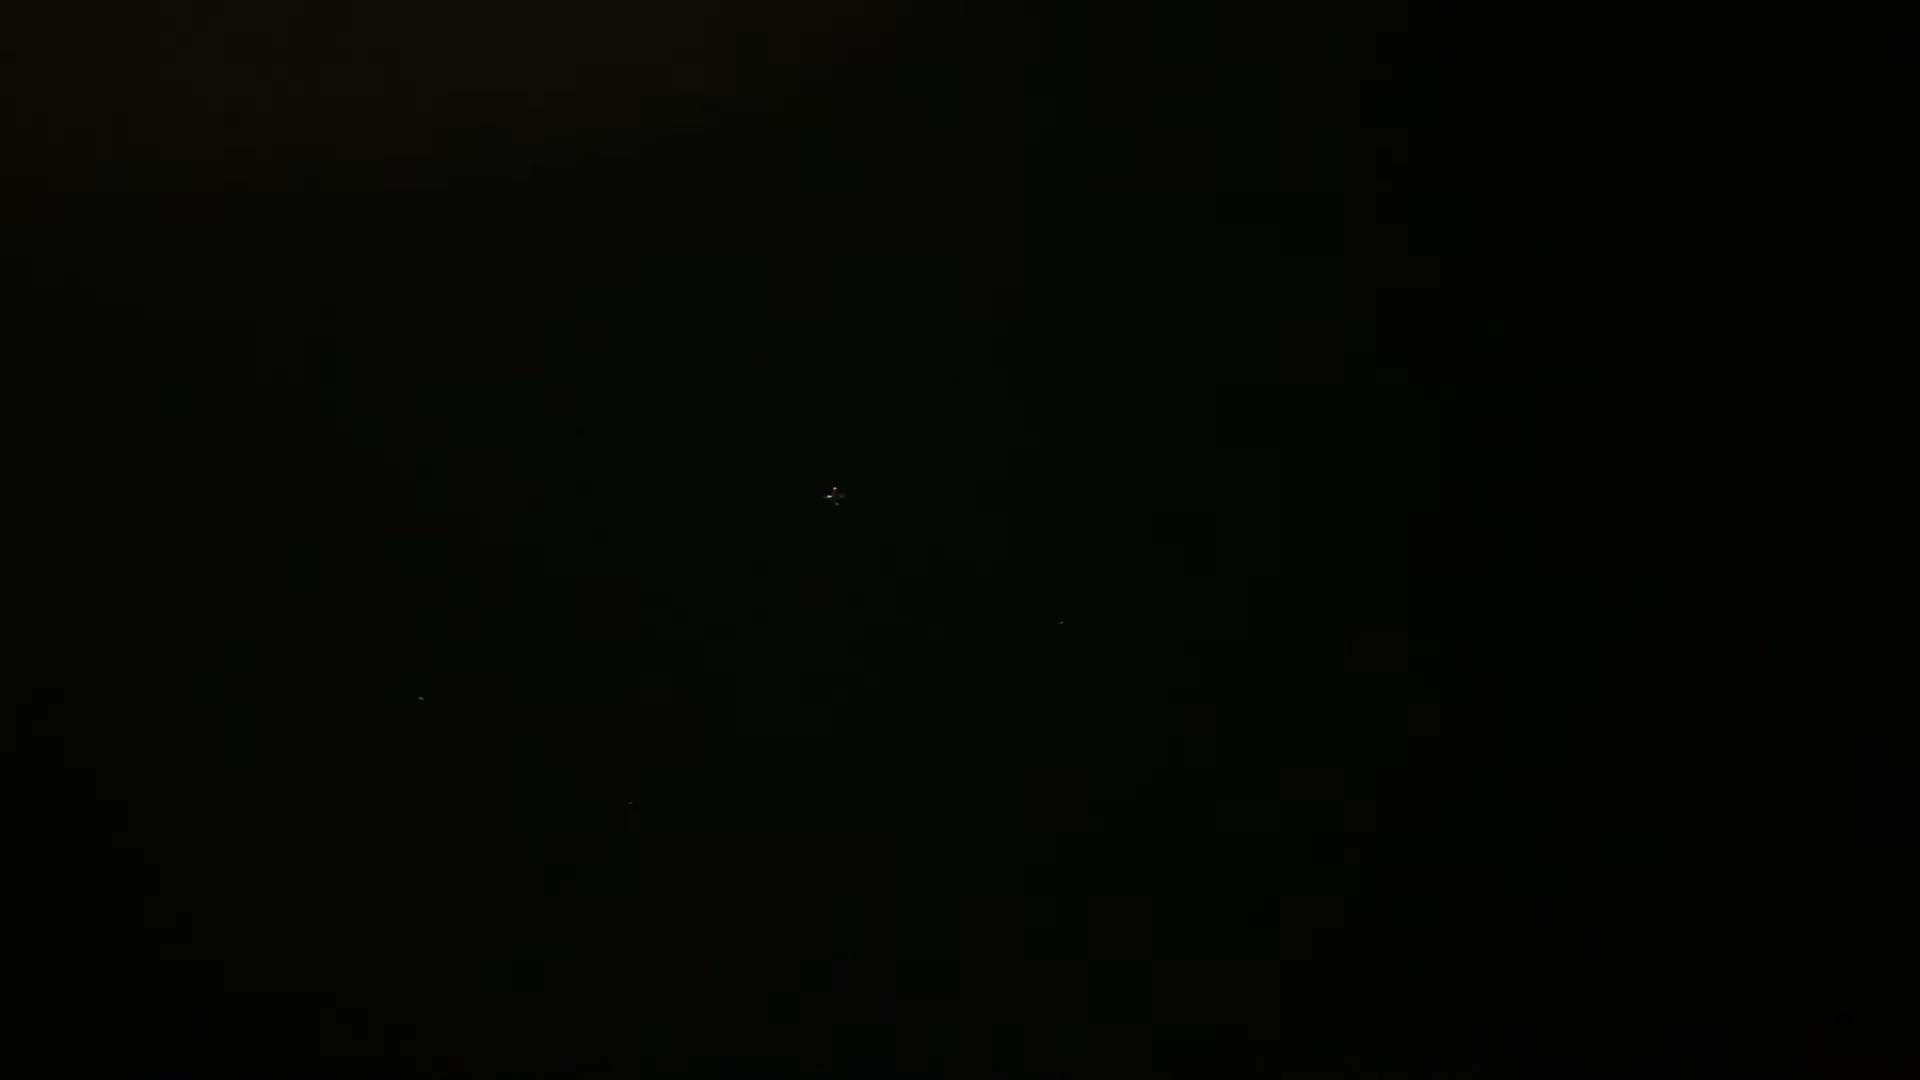Plane: (810, 477, 877, 516)
